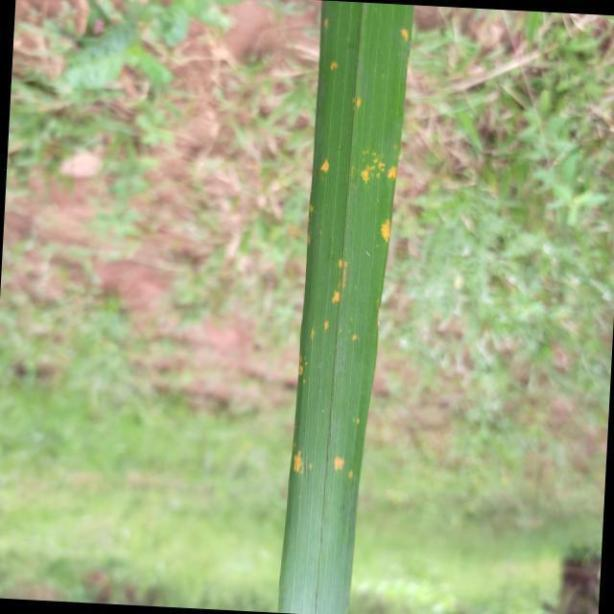Kalium: (277, 0, 411, 614)
